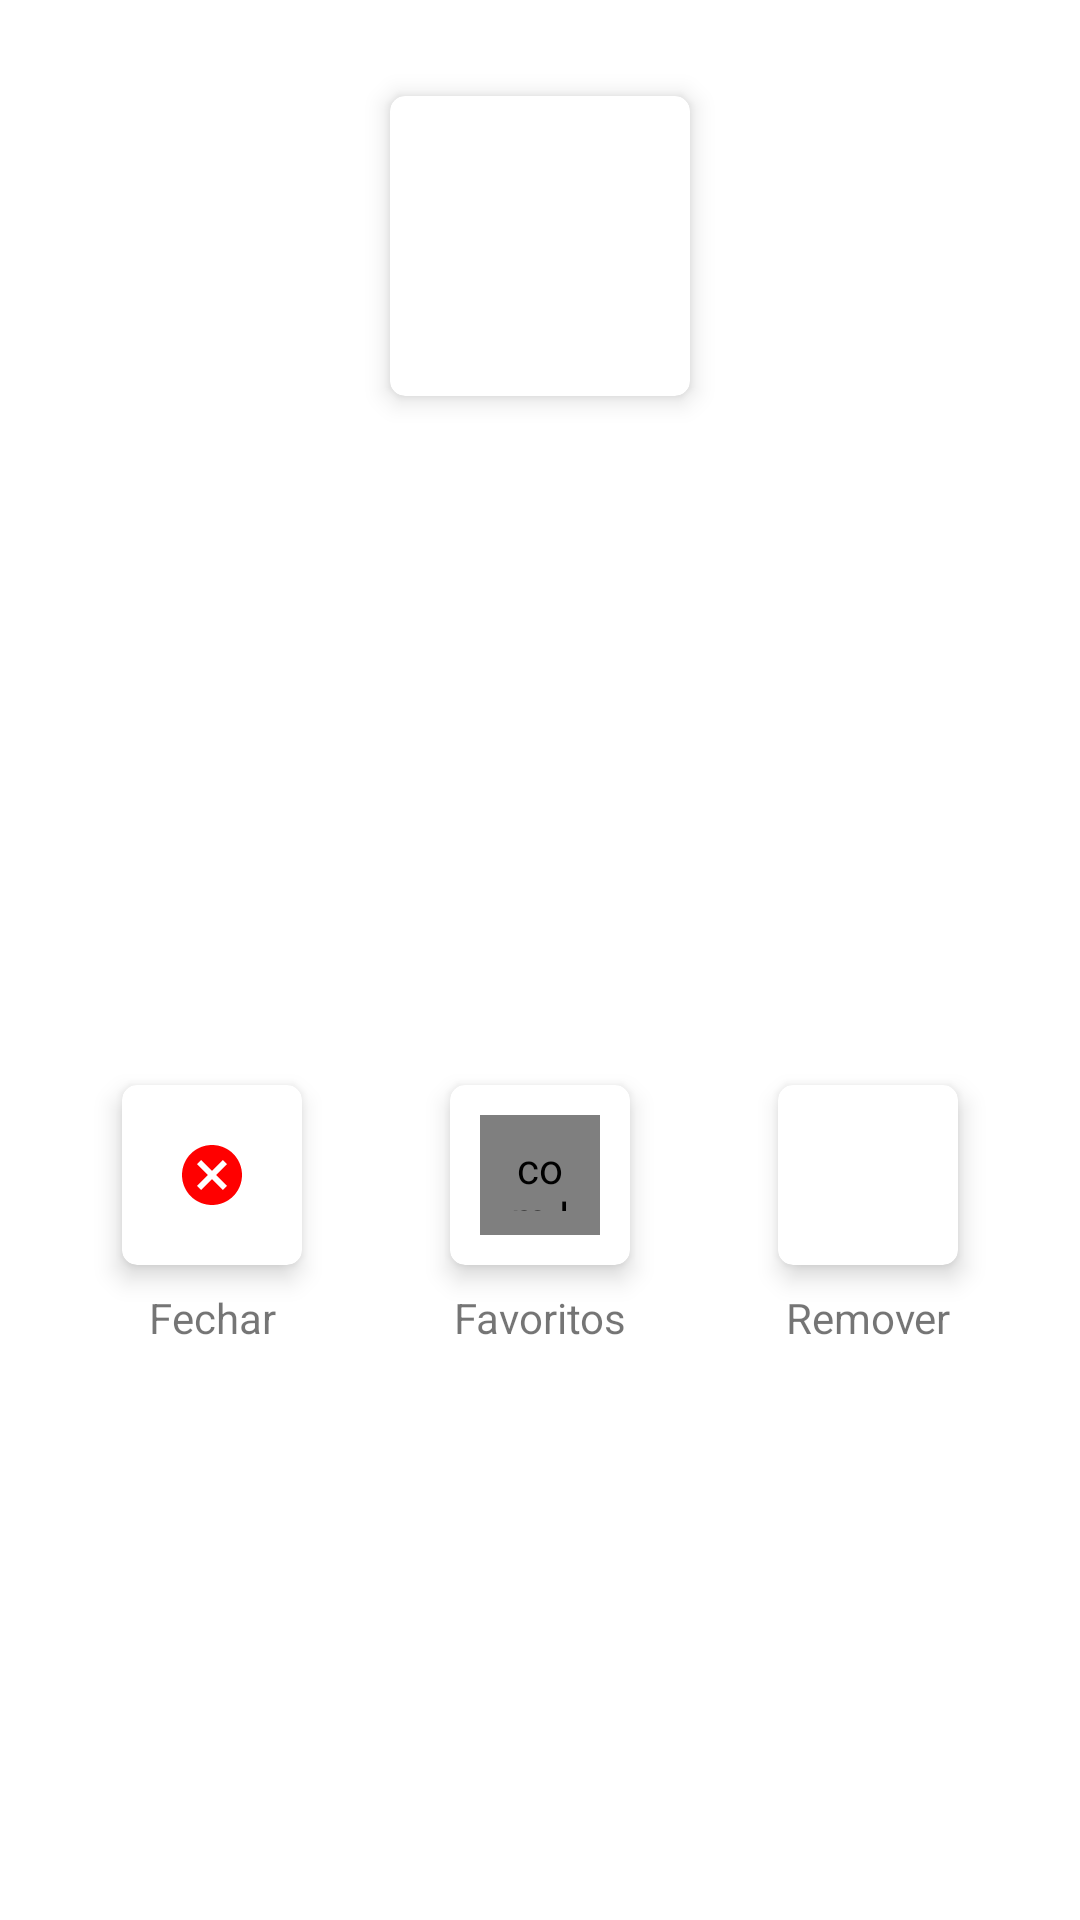

Icons on this 1080 x 1920 Android screen, each with the point to tap as (x,y):
cancelar: (212,1175)
